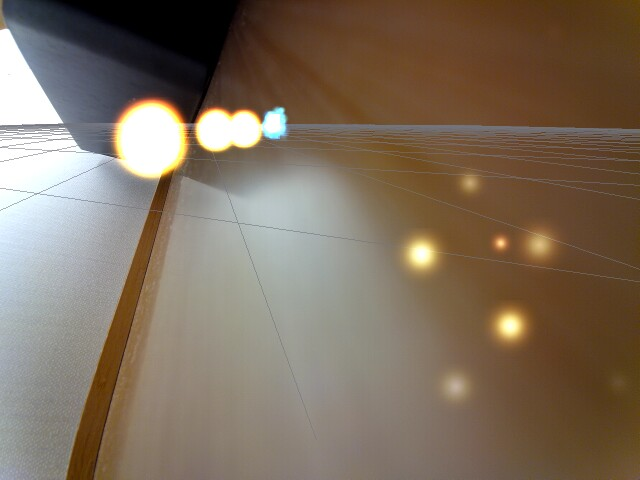firebig: (107, 101, 189, 184)
